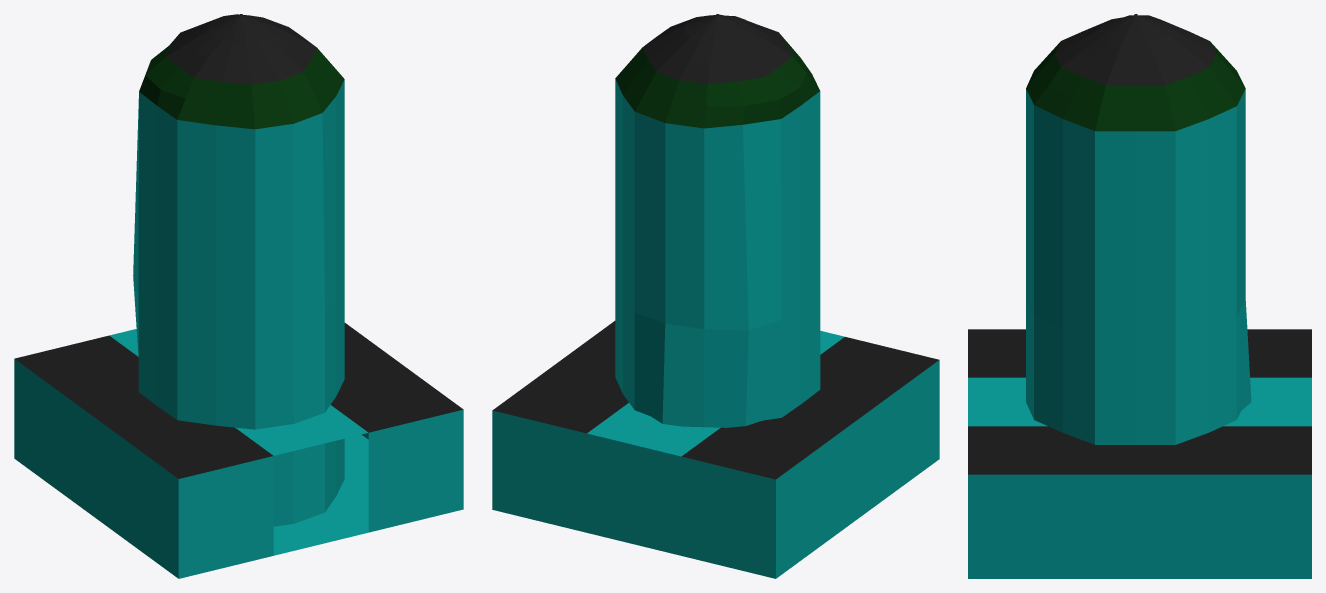
Rendered from stockpile.obj.
3 views of the same model, side by side, from view 1: azimuth 30°, elevation 25°; view 2: azimuth 150°, elevation 25°; view 3: azimuth 270°, elevation 25° (orthographic). The views are drawn at different scales.
Parts seen in each view (by area): view 1: Cube.001, Cube; view 2: Cube.001, Cube; view 3: Cube.001, Cube.
Part boxes in pixels (x1=…): Cube.001: x1=133, y1=14, x2=344, y2=526; Cube: x1=14, y1=323, x2=463, y2=578; Cube.001: x1=615, y1=14, x2=820, y2=427; Cube: x1=492, y1=321, x2=939, y2=578; Cube.001: x1=1026, y1=14, x2=1251, y2=444; Cube: x1=968, y1=329, x2=1311, y2=578.
Size of the model in its own units: 8.67 by 13.77 by 8.67.
